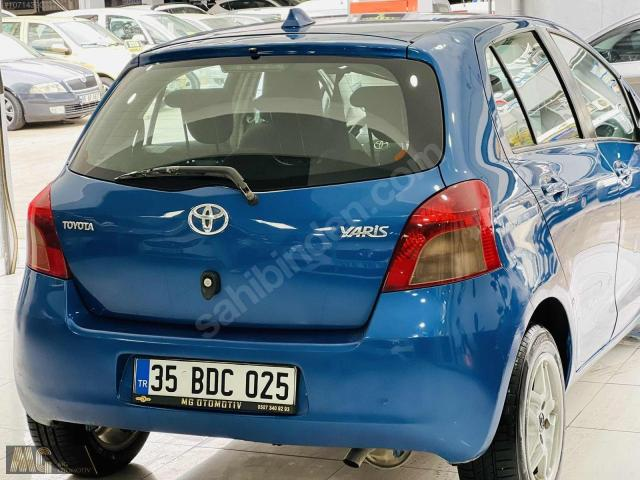plaka: (132, 359, 298, 414)
